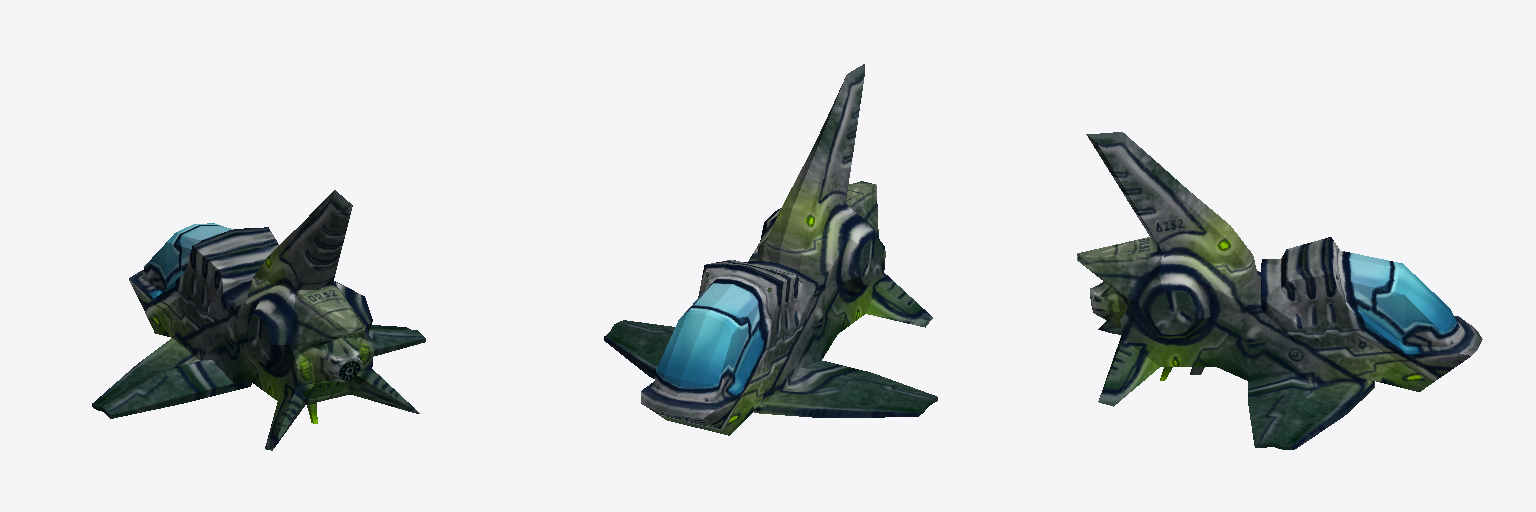
3 views of the same model, side by side, from view 1: azimuth 30°, elevation 25°; view 2: azimuth 150°, elevation 25°; view 3: azimuth 270°, elevation 25° (orthographic).
Visible parts, largest first — view 1: Cube; view 2: Cube; view 3: Cube.
Boxes of the visible parts, <box> form: Cube: <box>92,190,425,450</box>; Cube: <box>604,64,937,435</box>; Cube: <box>1077,132,1482,449</box>.
Size of the model in its own units: 8.29 by 6.25 by 9.25.
1 materials, 1 textured.